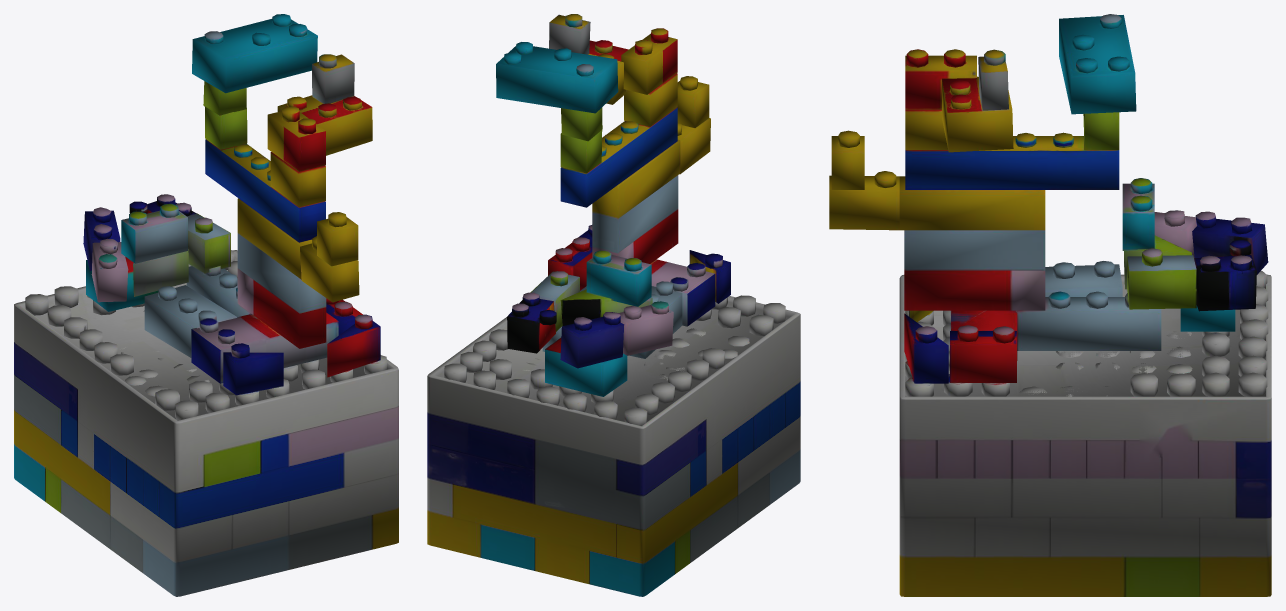
File: object_30_asset_8d68b0b0.glb
The picture shows the model from 3 angles, left to right: view 1: azimuth 30°, elevation 25°; view 2: azimuth 150°, elevation 25°; view 3: azimuth 270°, elevation 25°; orthographic projection. The views are drawn at different scales.
Parts seen in each view (by area): view 1: tripo_node_0be5bdf7-868b-4f2c-b96f-c3c07364c150; view 2: tripo_node_0be5bdf7-868b-4f2c-b96f-c3c07364c150; view 3: tripo_node_0be5bdf7-868b-4f2c-b96f-c3c07364c150.
Boxes of the visible parts, <box> form: tripo_node_0be5bdf7-868b-4f2c-b96f-c3c07364c150: <box>14,14,398,596</box>; tripo_node_0be5bdf7-868b-4f2c-b96f-c3c07364c150: <box>427,14,800,596</box>; tripo_node_0be5bdf7-868b-4f2c-b96f-c3c07364c150: <box>829,14,1271,596</box>.
Size of the model in its own units: 0.5059 by 0.998 by 0.7598.
1 material, 1 textured.
